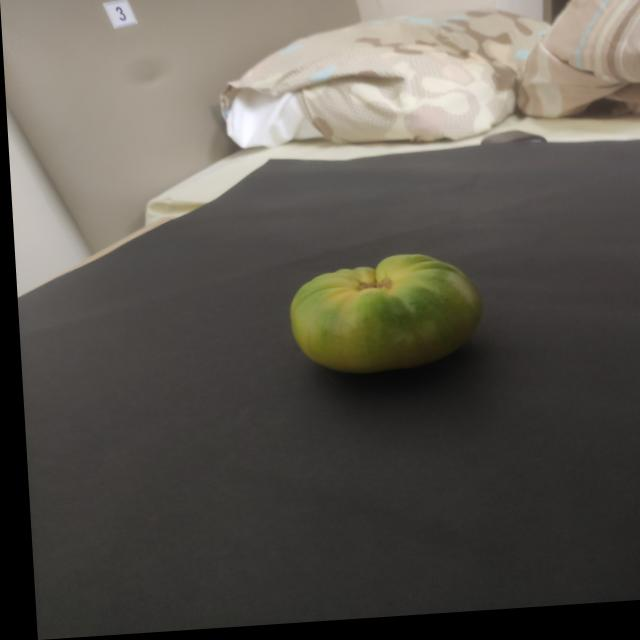yesil: (265, 247, 496, 385)
